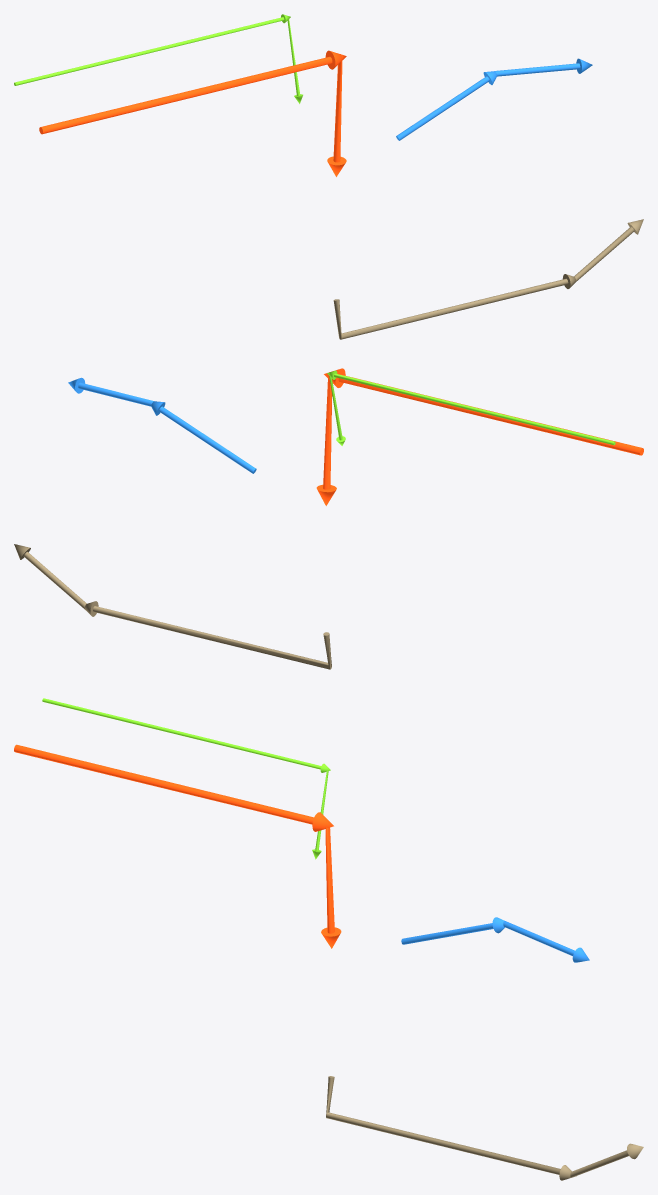
Rendered from mud_settling_tank_flow.glb.
The picture shows the model from 3 angles, top to bottom: view 1: azimuth 30°, elevation 25°; view 2: azimuth 150°, elevation 25°; view 3: azimuth 330°, elevation 25°; orthographic projection. The views are drawn at different scales.
Visible parts, largest first — view 1: feed, underflow, overflow, flocculant; view 2: feed, underflow, flocculant, overflow; view 3: feed, underflow, flocculant, overflow.
Part boxes in pixels (left/top/right/bottom): feed: left=39, top=50, right=346, bottom=176; underflow: left=333, top=219, right=643, bottom=339; overflow: left=396, top=58, right=592, bottom=140; flocculant: left=14, top=14, right=302, bottom=103; feed: left=316, top=368, right=643, bottom=505; underflow: left=14, top=544, right=331, bottom=669; flocculant: left=327, top=370, right=615, bottom=445; overflow: left=68, top=377, right=256, bottom=473; feed: left=14, top=744, right=341, bottom=948; underflow: left=326, top=1076, right=643, bottom=1180; flocculant: left=42, top=698, right=330, bottom=859; overflow: left=401, top=917, right=589, bottom=962.
Size of the model in its own units: 4.63 by 2.33 by 0.4462.
